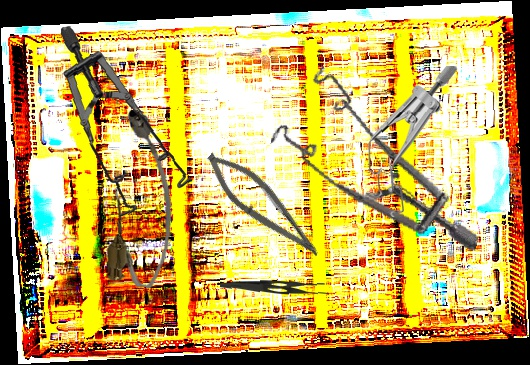Cannula: (104, 109, 180, 289)
Dressing Forceps: (219, 278, 330, 300)
Micro Scissor: (194, 143, 334, 266)
Speculum: (257, 60, 505, 252), (48, 24, 203, 221), (362, 64, 460, 218)
